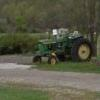Tractor: (24, 24, 98, 68)
